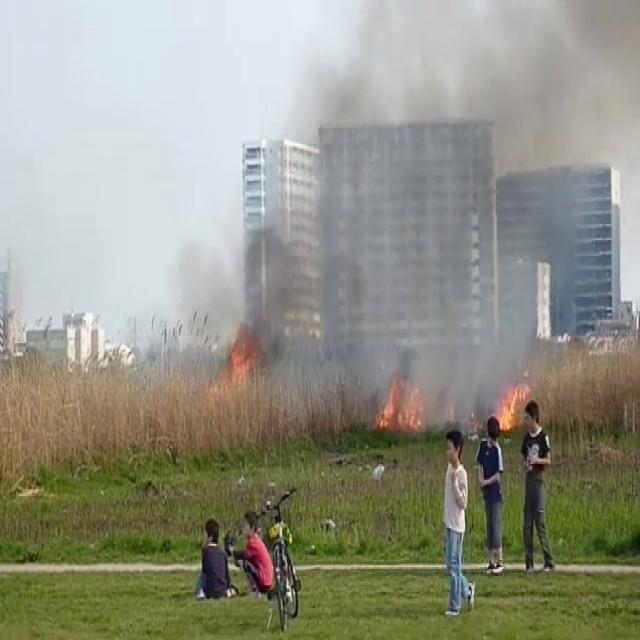Fire: (209, 323, 264, 406), (373, 363, 428, 441), (492, 371, 532, 438)
Smoke: (208, 0, 640, 391)
